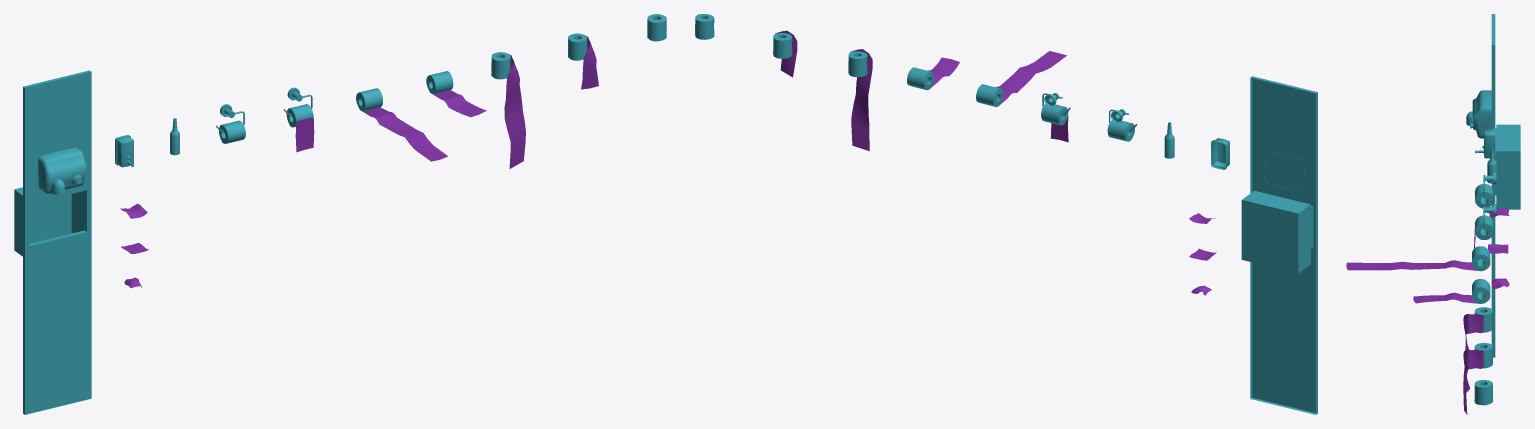
The model's file is SM_Stand_RecycleBin.FBX.
3 views of the same model, side by side, from view 1: azimuth 30°, elevation 25°; view 2: azimuth 150°, elevation 25°; view 3: azimuth 270°, elevation 25° (orthographic). The views are drawn at different scales.
Parts seen in each view (by area): view 1: Main, RollPaper_03, RollPaper_01, Holder_02, RollPaper_02, RollPaper_04, Holder_01; view 2: Main, RollPaper_03, RollPaper_01, Holder_02, RollPaper_02, RollPaper_04, Holder_01; view 3: Main, RollPaper_01, RollPaper_03, RollPaper_02, RollPaper_04, Holder_02, Holder_01, RollPaper_05, Dispenser, Beer, Paper_02.
Part boxes in pixels (x1,y1,x2,y2): Main: [14, 70, 91, 414]; RollPaper_03: [491, 52, 525, 168]; RollPaper_01: [356, 88, 447, 161]; Holder_02: [283, 87, 314, 152]; RollPaper_02: [426, 71, 486, 117]; RollPaper_04: [568, 33, 598, 89]; Holder_01: [216, 104, 245, 143]; Main: [1241, 76, 1317, 414]; RollPaper_03: [848, 49, 872, 151]; RollPaper_01: [976, 51, 1066, 107]; Holder_02: [1041, 93, 1070, 142]; RollPaper_02: [907, 57, 959, 90]; RollPaper_04: [773, 30, 797, 77]; Holder_01: [1107, 109, 1137, 141]; Main: [1466, 14, 1520, 357]; RollPaper_01: [1346, 246, 1490, 271]; RollPaper_03: [1463, 307, 1492, 414]; RollPaper_02: [1413, 279, 1490, 303]; RollPaper_04: [1463, 342, 1492, 393]; Holder_02: [1474, 204, 1496, 248]; Holder_01: [1474, 172, 1496, 208]; RollPaper_05: [1474, 380, 1492, 405]; Dispenser: [1475, 128, 1495, 158]; Beer: [1487, 148, 1496, 183]; Paper_02: [1488, 244, 1508, 253].
Bounding box in the file's own units: 385 × 189 × 95.58.
